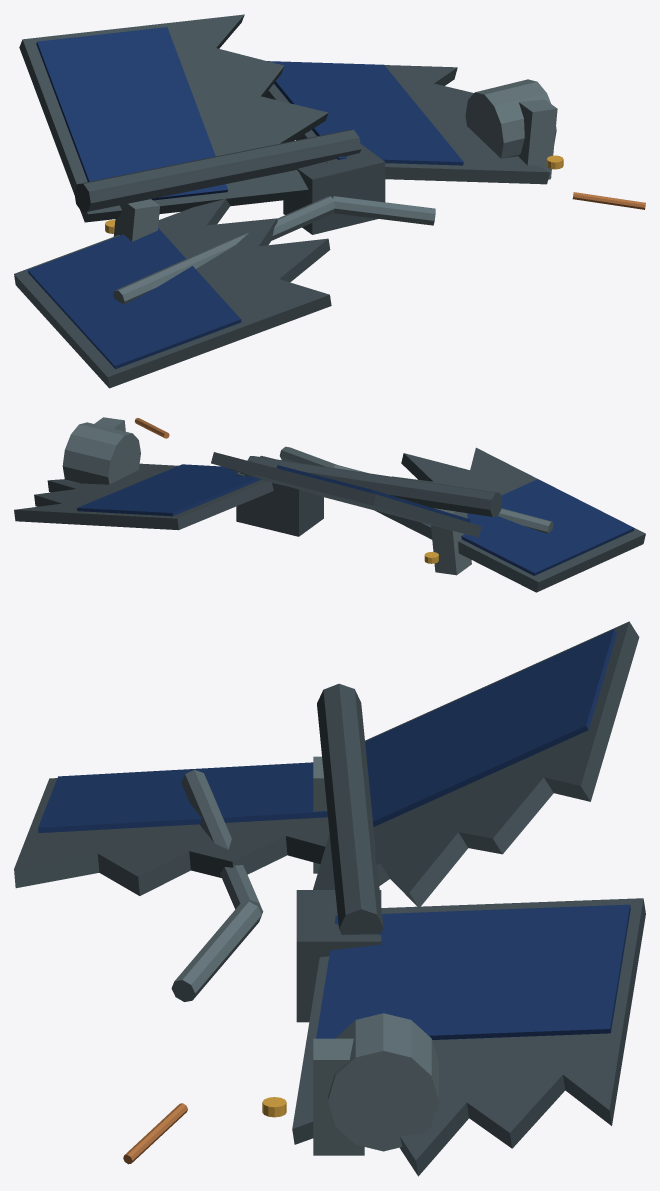
The model's file is solar_panel_rack_d3.glb.
3 renders of one model, top to bottom at view 1: azimuth 30°, elevation 25°; view 2: azimuth 150°, elevation 25°; view 3: azimuth 270°, elevation 25°, orthographic. The views are drawn at different scales.
Parts seen in each view (by area): view 1: SOLAR_GAME_MESH; view 2: SOLAR_GAME_MESH; view 3: SOLAR_GAME_MESH.
Part boxes in pixels (x1=…): SOLAR_GAME_MESH: x1=14, y1=14, x2=645, y2=388; SOLAR_GAME_MESH: x1=14, y1=417, x2=645, y2=592; SOLAR_GAME_MESH: x1=14, y1=621, x2=645, y2=1176.
Size of the model in its own units: 4.31 by 1.27 by 2.84.
